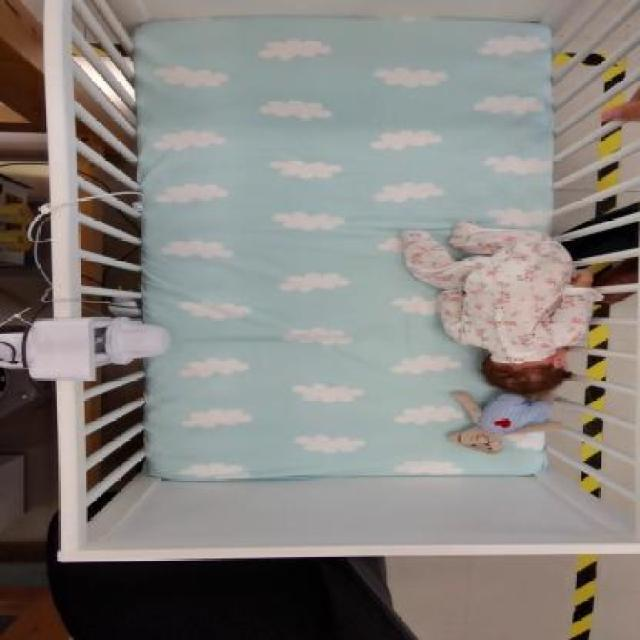baby: (400, 221, 602, 397)
